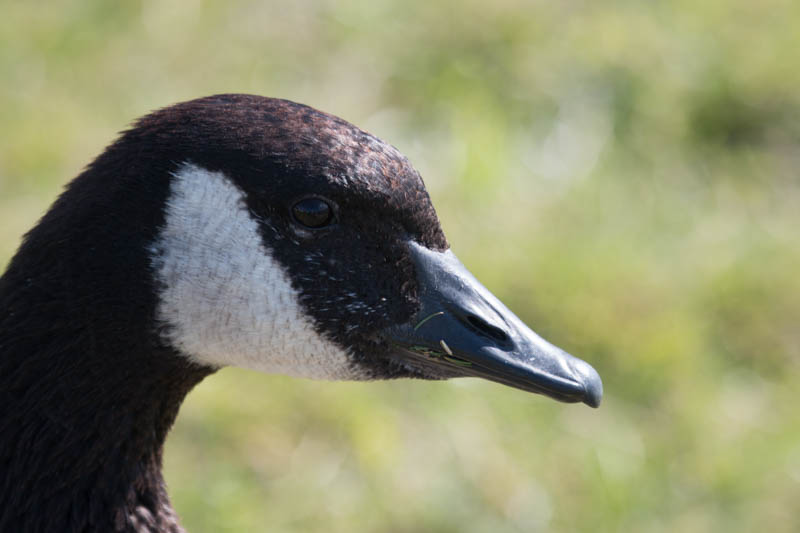goose-head: (91, 93, 603, 410)
